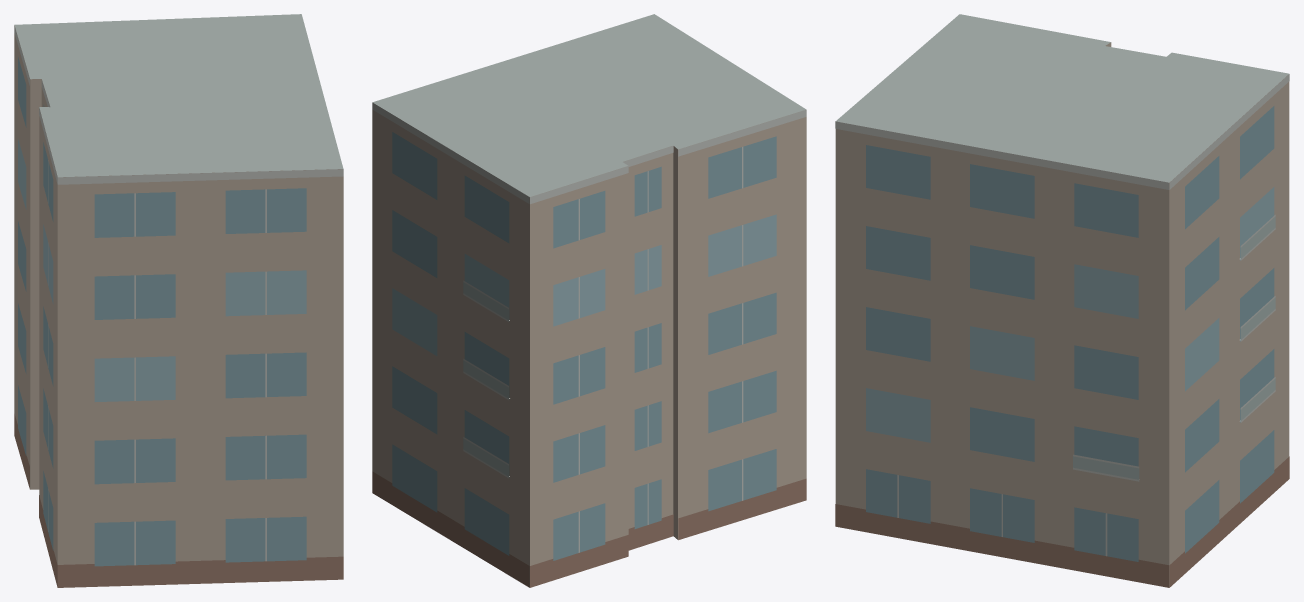
The model's file is survey-upis-32535591.glb.
The picture shows the model from 3 angles, left to right: view 1: azimuth 30°, elevation 25°; view 2: azimuth 150°, elevation 25°; view 3: azimuth 270°, elevation 25°; orthographic projection. The views are drawn at different scales.
Parts seen in each view (by area): view 1: survey-upis-32535591.tmp; view 2: survey-upis-32535591.tmp; view 3: survey-upis-32535591.tmp.
Boxes of the visible parts, <box> form: survey-upis-32535591.tmp: <box>14,14,343,587</box>; survey-upis-32535591.tmp: <box>372,14,806,587</box>; survey-upis-32535591.tmp: <box>835,14,1289,587</box>.
Bounding box in the file's own units: 11.88 × 13.3 × 13.52.
